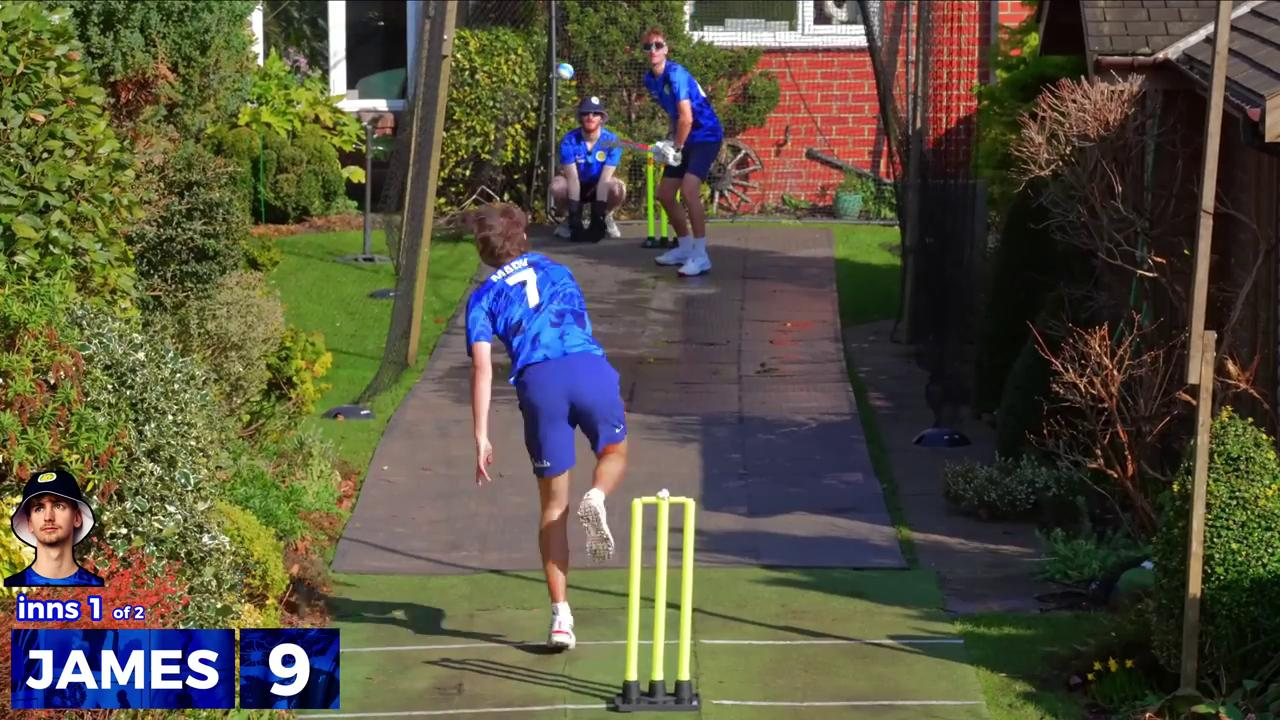ball: (549, 55, 584, 89)
